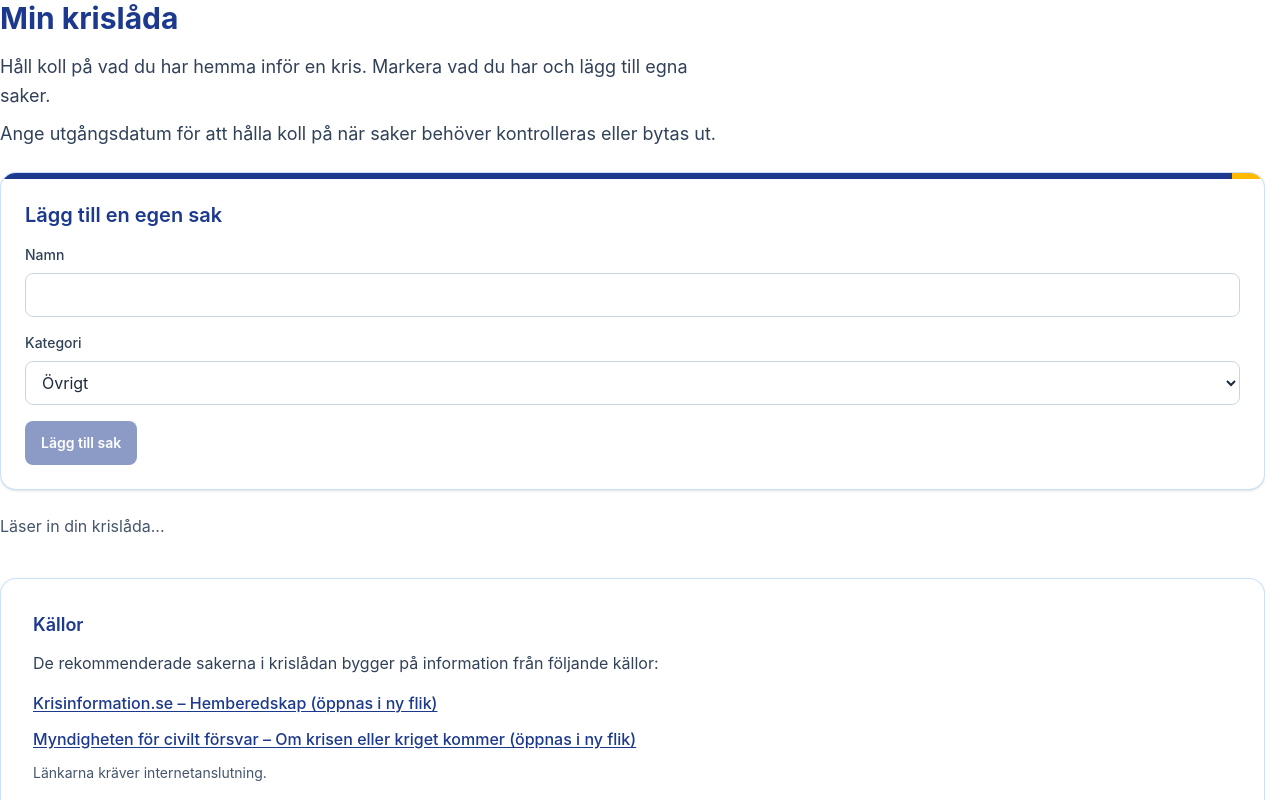
Test: CrisisKitPage custom-item creation › adds a custom item and resets the form after saving
In the field labelled "Namn": (632, 295) [25,273,1240,317], type "Ficklampa"
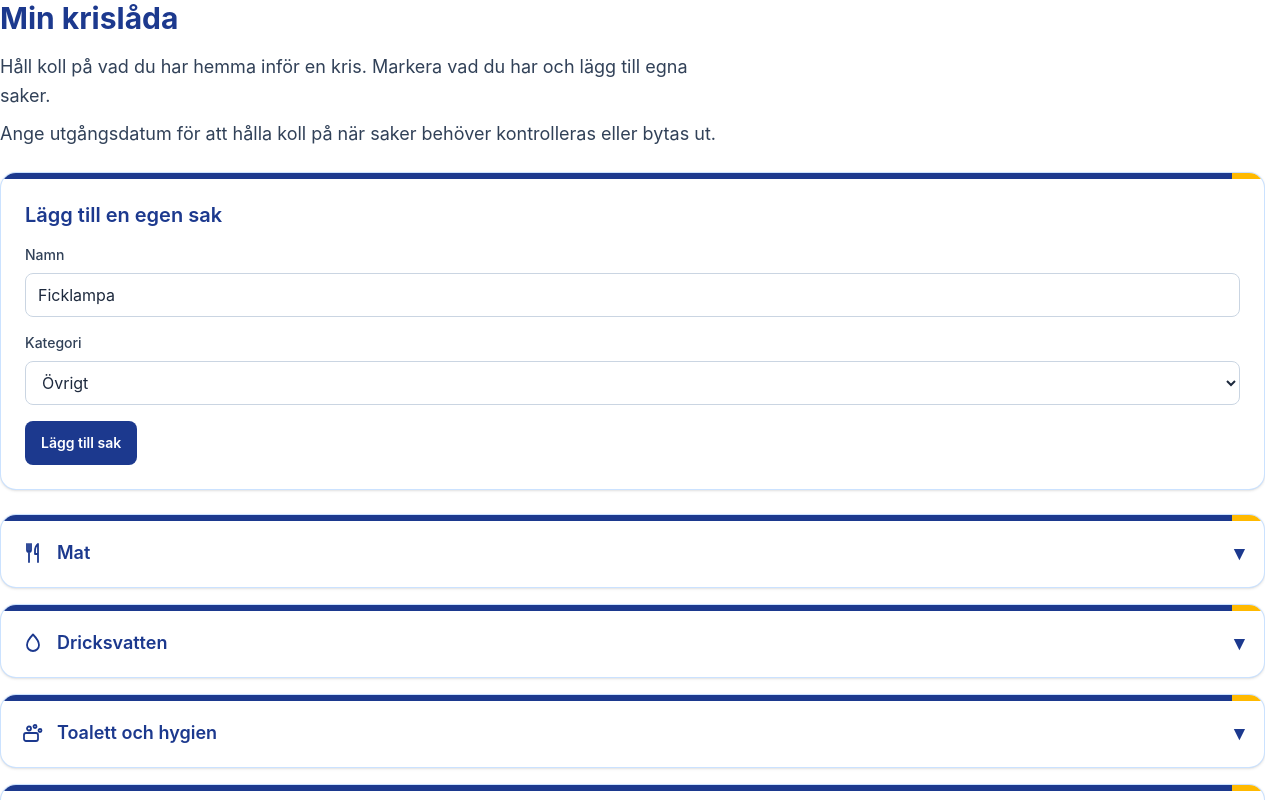
Select "Kommunikation" in the dropdown labelled "Kategori": (632, 383) [25,361,1240,405]
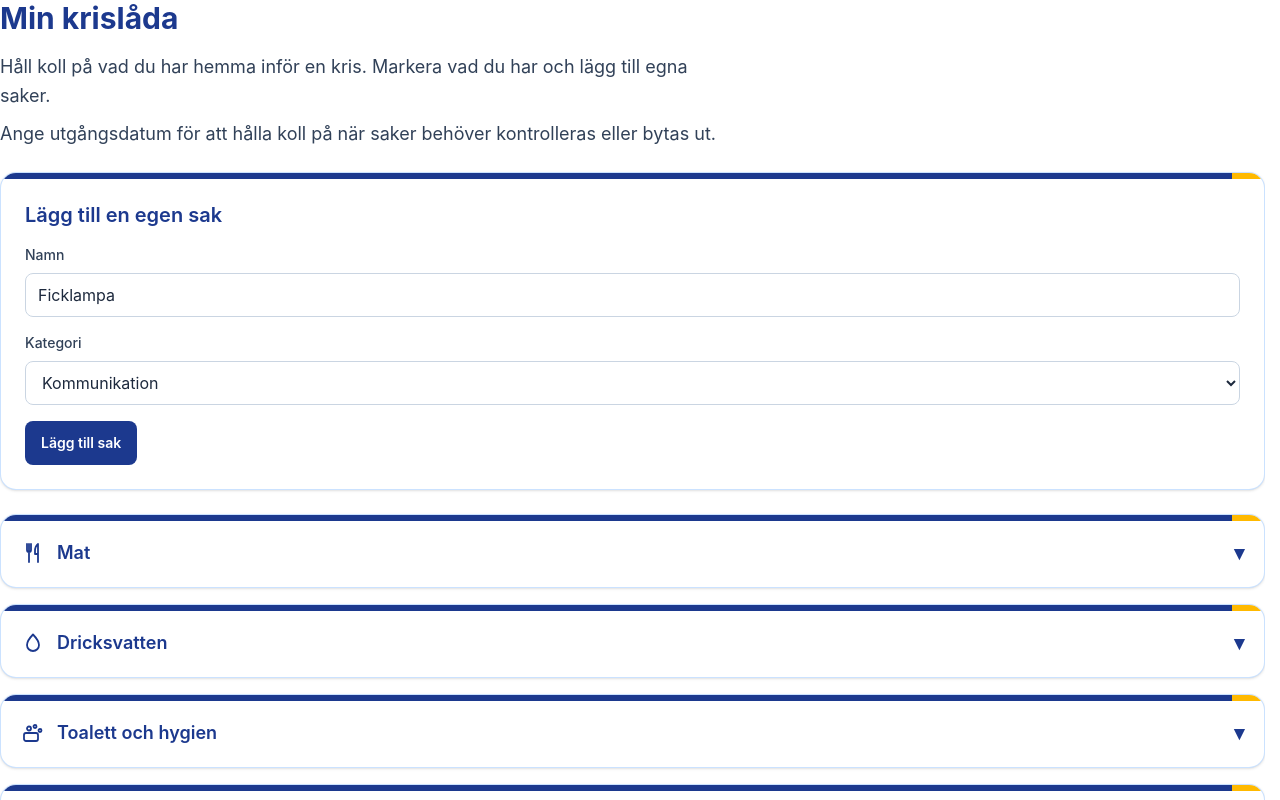
Click the button "Lägg till sak": (81, 443) [25,421,137,465]
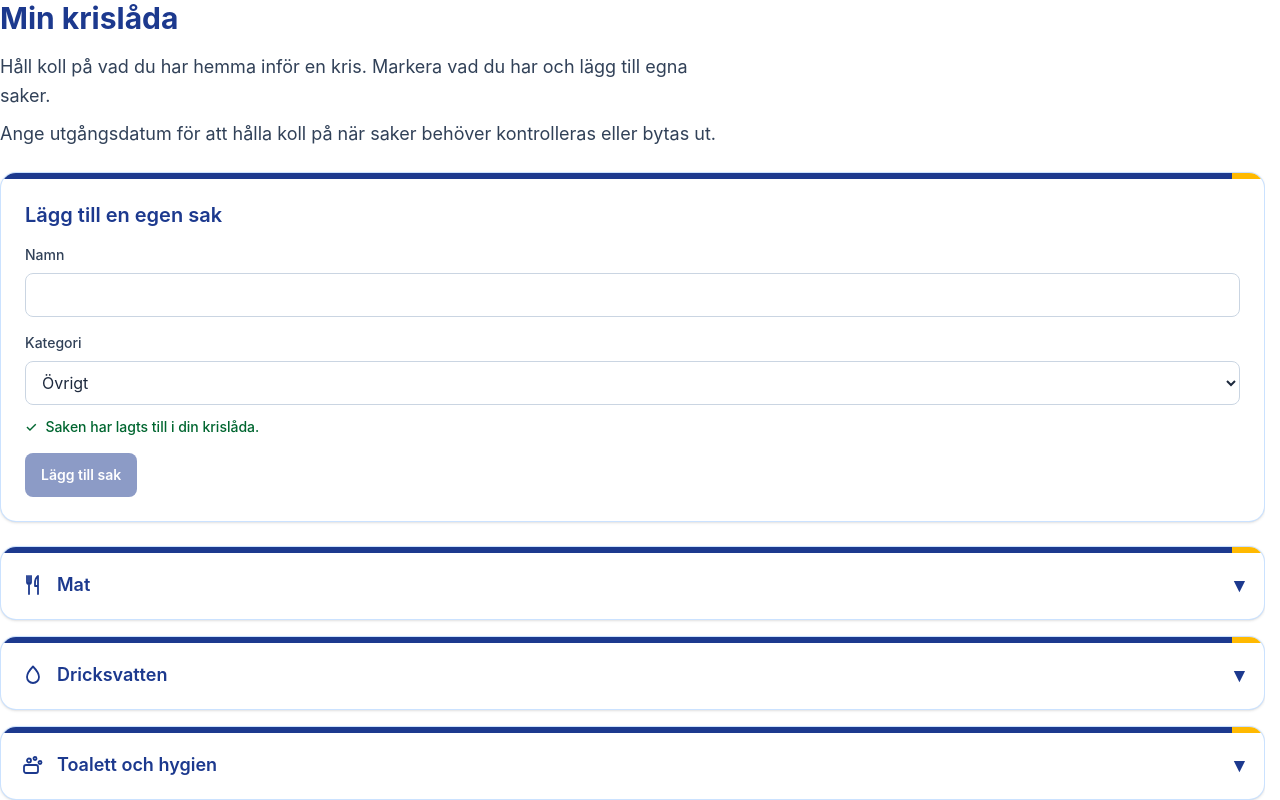
Check: the field labelled "Namn" is empty, box [25,273,1240,317]
Check: the text "Saken har lagts till i din krislåda." is shown, box [45,418,259,435]
